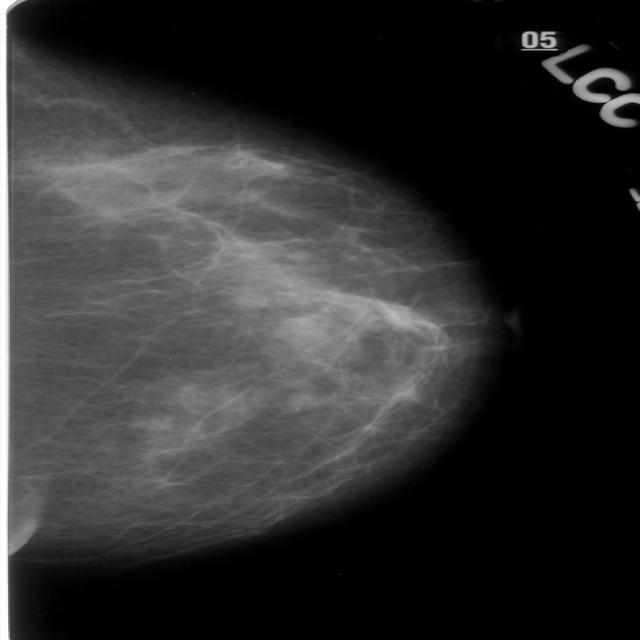tumour: (271, 310, 330, 346)
